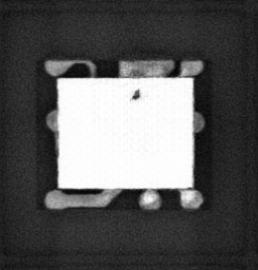DIE_INK: (130, 87, 141, 101)
